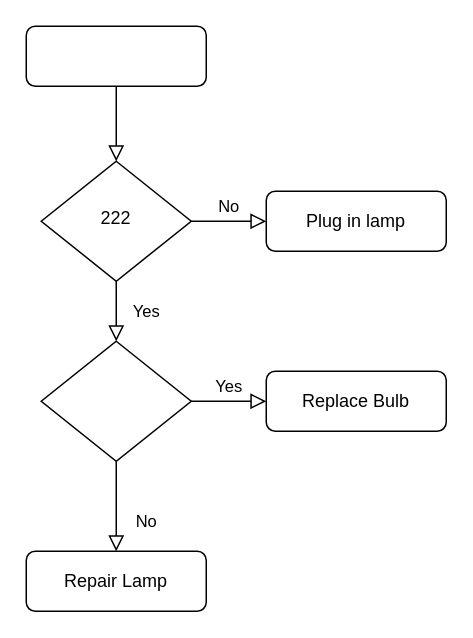
Some shapes in this 473 by 638 pixel diagram are drawn without their labels. Here are the shapes that lost their labels. From the top down, the centre of each, then its label:
pixel 115 55: z智慧币111
pixel 115 400: Bulb burned out?
